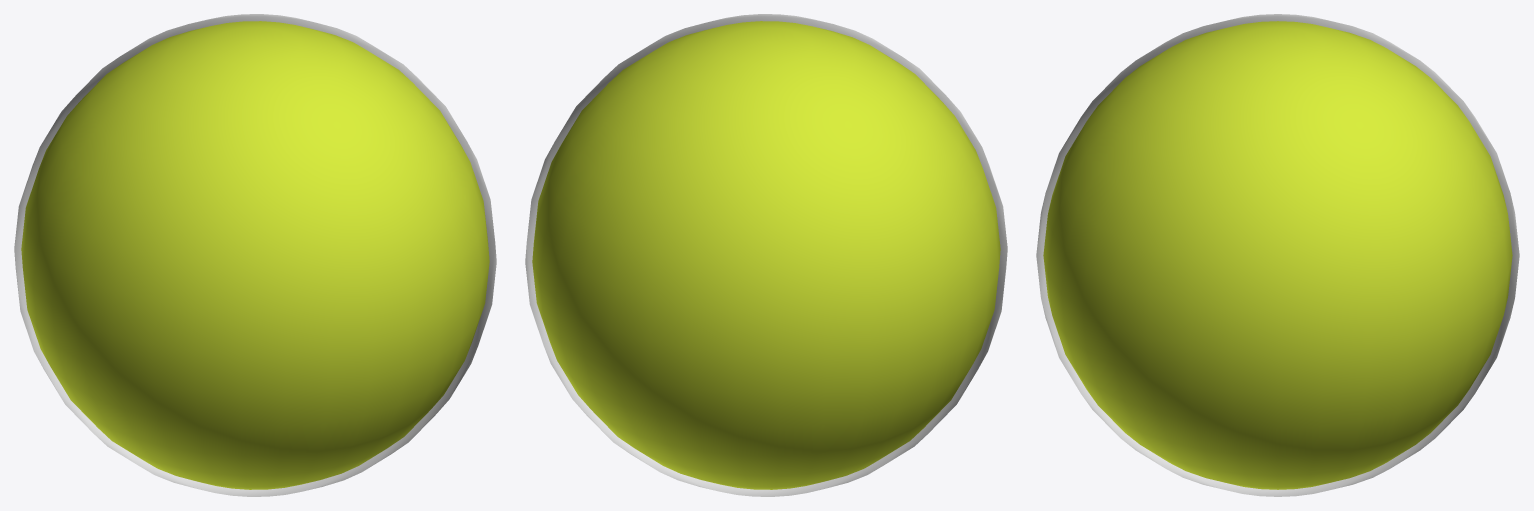
Rendered from ball.gltf.
3 renders of one model, left to right at view 1: azimuth 30°, elevation 25°; view 2: azimuth 150°, elevation 25°; view 3: azimuth 270°, elevation 25°, orthographic.
Parts seen in each view (by area): view 1: Sphere; view 2: Sphere; view 3: Sphere.
Part boxes in pixels (x1=…): Sphere: x1=14, y1=14, x2=496, y2=496; Sphere: x1=525, y1=14, x2=1007, y2=496; Sphere: x1=1036, y1=14, x2=1519, y2=496.
Bounding box in the file's own units: 0.406 × 0.406 × 0.406.
